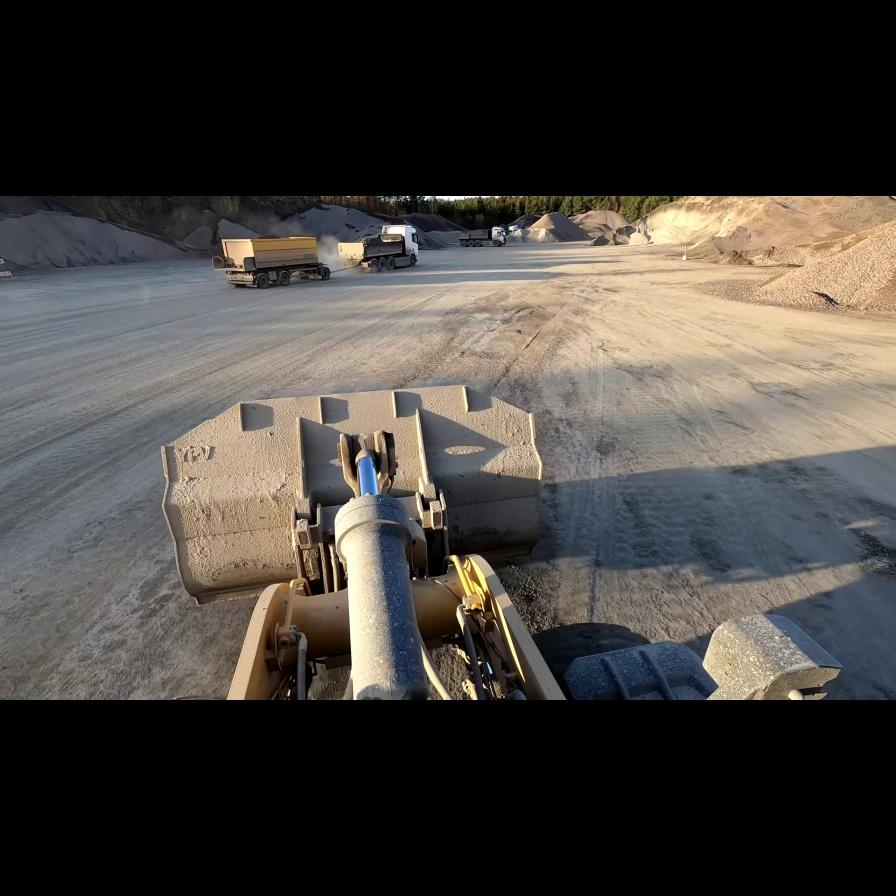anchor: (337, 431, 392, 498)
pile of gravel: (719, 215, 896, 317), (637, 195, 887, 255), (2, 205, 190, 277), (277, 203, 459, 254), (518, 213, 588, 243), (180, 219, 240, 253), (567, 210, 632, 241)
